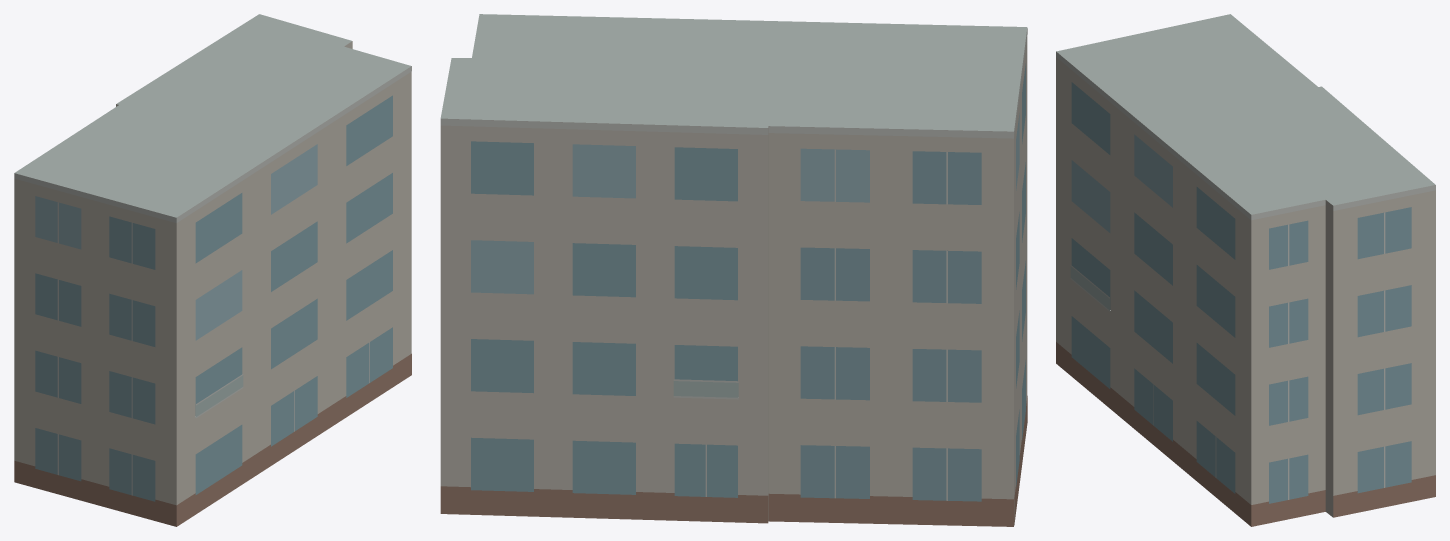
The model's file is survey-upis-32697329.glb.
3 views of the same model, side by side, from view 1: azimuth 30°, elevation 25°; view 2: azimuth 150°, elevation 25°; view 3: azimuth 270°, elevation 25° (orthographic). The views are drawn at different scales.
Parts seen in each view (by area): view 1: survey-upis-32697329.tmp; view 2: survey-upis-32697329.tmp; view 3: survey-upis-32697329.tmp.
Part boxes in pixels (x1,y1,x2,y2): survey-upis-32697329.tmp: (14,14,411,526); survey-upis-32697329.tmp: (440,14,1027,526); survey-upis-32697329.tmp: (1056,14,1435,526).
Bounding box in the file's own units: 19.2 × 13.9 × 15.34.
